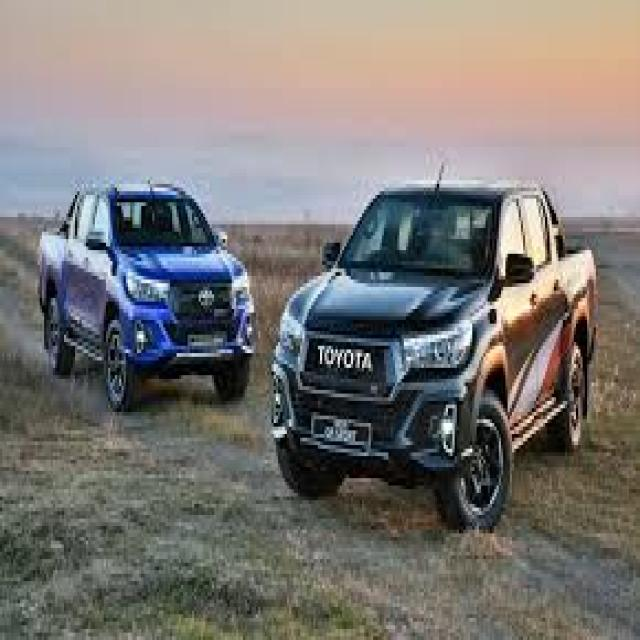Pickup Trucks: (274, 177, 598, 537), (35, 177, 256, 408)
